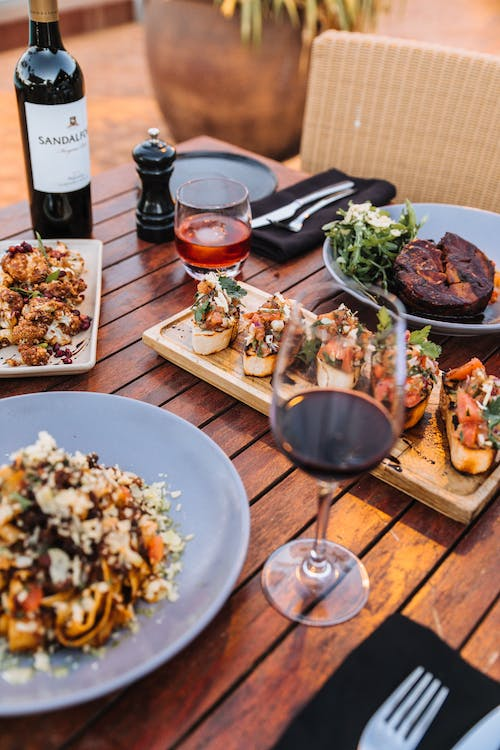alcohol: (257, 281, 408, 629), (10, 0, 97, 239), (173, 174, 254, 281)
knife: (250, 178, 357, 228), (442, 702, 500, 750)
